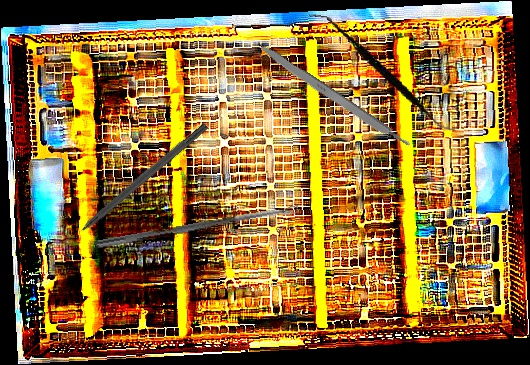Hook Surgical: (62, 120, 210, 247)
Scalpel Handle: (252, 39, 413, 153)
Spatula Surgical: (293, 13, 472, 133)
Surgical Spoon: (93, 205, 300, 250)
